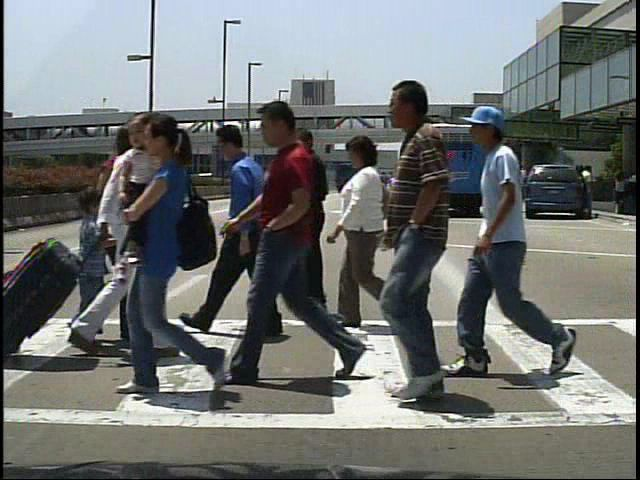person: (372, 84, 502, 422), (254, 93, 342, 385), (471, 102, 554, 379), (193, 123, 291, 346), (92, 113, 168, 366), (317, 135, 412, 334), (278, 130, 351, 322), (93, 116, 149, 361), (56, 194, 115, 345), (582, 167, 602, 218), (509, 165, 528, 215), (497, 166, 515, 218)
